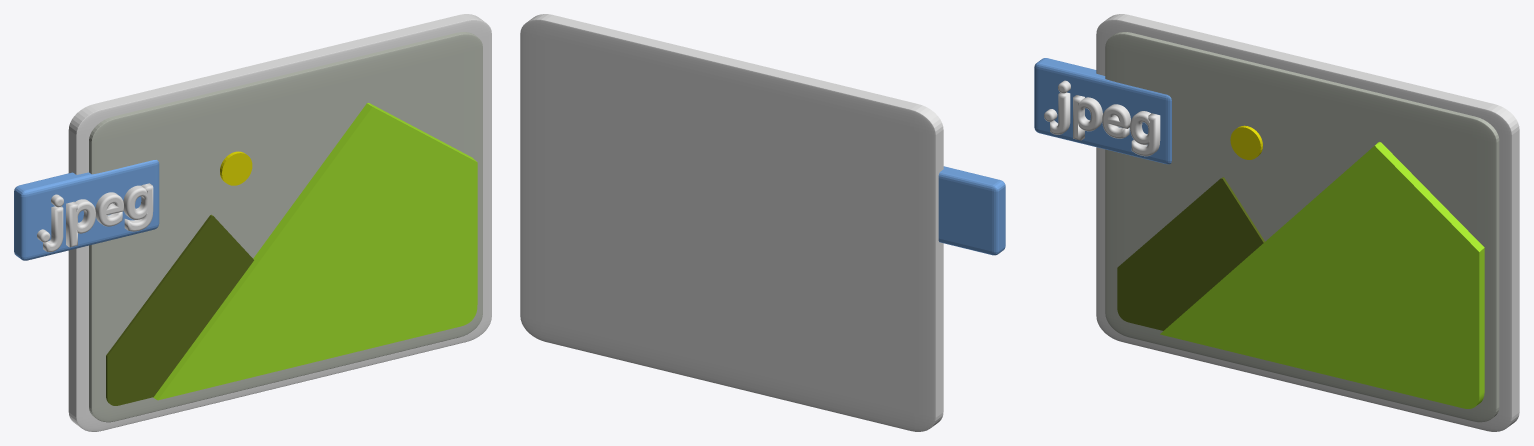
File: image.glb
3 renders of one model, left to right at view 1: azimuth 30°, elevation 25°; view 2: azimuth 150°, elevation 25°; view 3: azimuth 330°, elevation 25°, orthographic.
Visible parts, largest first — view 1: Cube.008, Cube.004, Cube.003, Cube.005, textbox.003, Text.003, Cube.006; view 2: Cube.003, textbox.003; view 3: Cube.008, Cube.004, Cube.003, Cube.005, textbox.003, Text.003, Cube.006.
Boxes of the visible parts, x1=… form: Cube.008: x1=89, y1=32, x2=482, y2=422; Cube.004: x1=153, y1=103, x2=477, y2=400; Cube.003: x1=68, y1=14, x2=491, y2=431; Cube.005: x1=106, y1=214, x2=253, y2=405; textbox.003: x1=14, y1=160, x2=159, y2=260; Text.003: x1=37, y1=183, x2=153, y2=252; Cube.006: x1=220, y1=151, x2=252, y2=185; Cube.003: x1=520, y1=14, x2=943, y2=431; textbox.003: x1=938, y1=166, x2=1005, y2=255; Cube.008: x1=1105, y1=32, x2=1499, y2=422; Cube.004: x1=1160, y1=142, x2=1484, y2=408; Cube.003: x1=1096, y1=14, x2=1519, y2=431; Cube.005: x1=1117, y1=177, x2=1264, y2=330; textbox.003: x1=1034, y1=58, x2=1171, y2=164; Text.003: x1=1044, y1=80, x2=1160, y2=156; Cube.006: x1=1230, y1=125, x2=1262, y2=159.
Size of the model in its own units: 4 by 2.59 by 0.2549.
